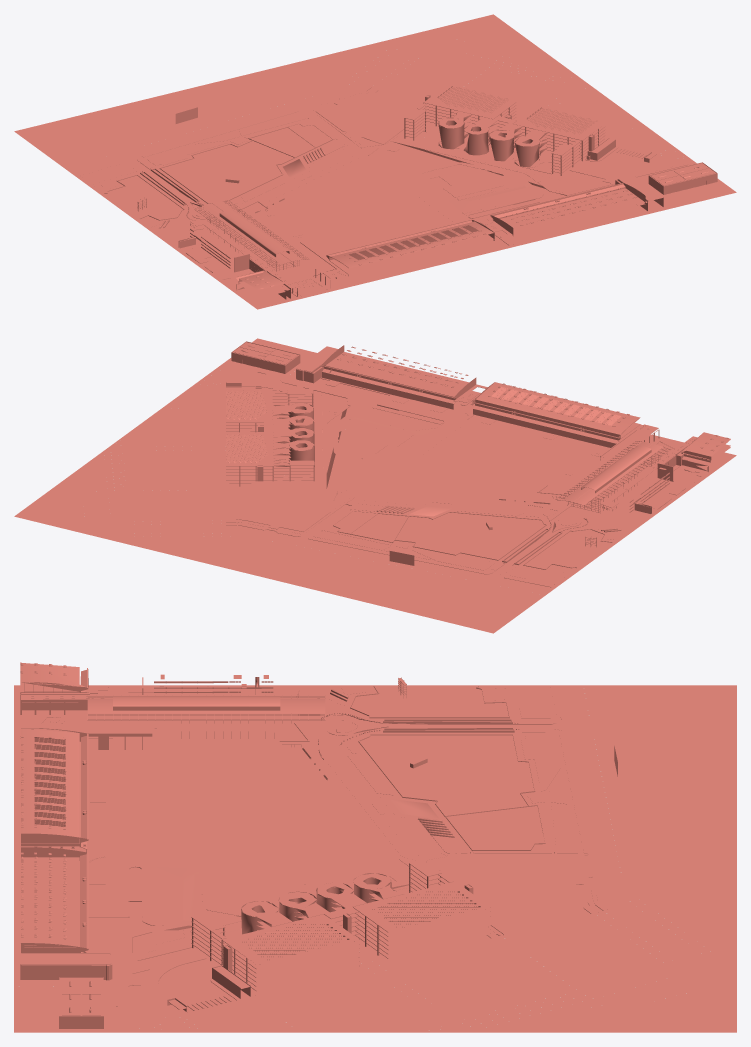
3 views of the same model, one above another, from view 1: azimuth 30°, elevation 25°; view 2: azimuth 150°, elevation 25°; view 3: azimuth 270°, elevation 25° (orthographic). The views are drawn at different scales.
Visible parts, largest first — view 1: Plane001.001, Area_all, GRUND, Area_all.001, _00_Wasser001, Dach_002, _00_Fuweg_001.001, _00_Grn_001, Dach_001, see_weg, Asphalt_05, _Ground_street__001 (+8 smaller); view 2: Plane001.001, Area_all, GRUND, Area_all.001, Dach_002, _00_Wasser001, _00_Fuweg_001.001, _00_Grn_001, ICM_Asphalt_002_001, Dach_001, see_weg, Asphalt_05 (+8 smaller); view 3: Plane001.001, Area_all, GRUND, _00_Wasser001, Area_all.001, Dach_002, _00_Fuweg_001.001, ICM_Asphalt_002_001, Dach_001, _00_Grn_001, see_weg, Asphalt_05 (+11 smaller).
Part boxes in pixels (left/top/right/bottom): Plane001.001: left=14, top=14, right=736, bottom=309; Area_all: left=80, top=85, right=717, bottom=299; GRUND: left=246, top=135, right=516, bottom=276; Area_all.001: left=79, top=87, right=715, bottom=295; _00_Wasser001: left=105, top=127, right=314, bottom=219; Dach_002: left=326, top=183, right=645, bottom=276; _00_Fuweg_001.001: left=239, top=141, right=545, bottom=220; _00_Grn_001: left=244, top=147, right=543, bottom=216; Dach_001: left=194, top=200, right=308, bottom=267; see_weg: left=137, top=110, right=347, bottom=207; Asphalt_05: left=281, top=201, right=454, bottom=255; _Ground_street__001: left=232, top=143, right=365, bottom=212; Plane001.001: left=14, top=338, right=736, bottom=633; Area_all: left=226, top=341, right=730, bottom=585; GRUND: left=314, top=400, right=631, bottom=520; Area_all.001: left=226, top=343, right=701, bottom=587; Dach_002: left=322, top=345, right=640, bottom=443; _00_Wasser001: left=351, top=512, right=611, bottom=568; _00_Fuweg_001.001: left=325, top=409, right=566, bottom=511; _00_Grn_001: left=333, top=397, right=609, bottom=510; ICM_Asphalt_002_001: left=378, top=395, right=608, bottom=459; Dach_001: left=556, top=441, right=669, bottom=508; see_weg: left=308, top=503, right=551, bottom=574; Asphalt_05: left=457, top=425, right=601, bottom=487; Plane001.001: left=14, top=685, right=736, bottom=1032; Area_all: left=20, top=662, right=595, bottom=1028; GRUND: left=73, top=737, right=453, bottom=901; _00_Wasser001: left=351, top=686, right=542, bottom=834; Area_all.001: left=20, top=686, right=606, bottom=1024; Dach_002: left=21, top=728, right=88, bottom=952; _00_Fuweg_001.001: left=163, top=738, right=426, bottom=930; ICM_Asphalt_002_001: left=88, top=750, right=128, bottom=917; Dach_001: left=87, top=695, right=325, bottom=720; _00_Grn_001: left=89, top=753, right=412, bottom=925; see_weg: left=339, top=729, right=588, bottom=855; Asphalt_05: left=128, top=750, right=252, bottom=855.
Size of the model in its own units: 509 by 23.58 by 448.
